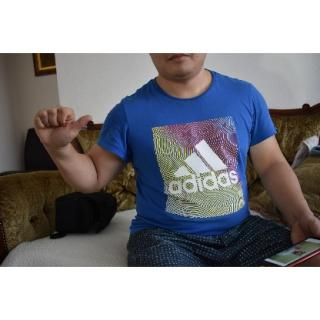DAD: (30, 104, 96, 158)
